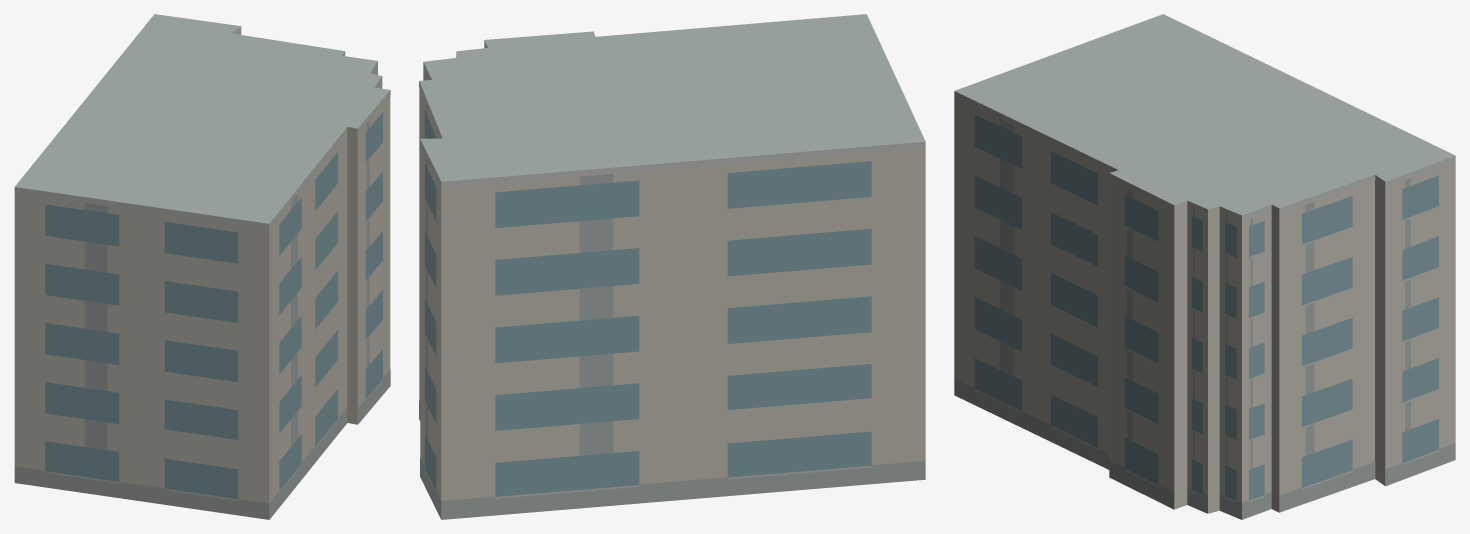
The model's file is survey-upis-33009211.glb.
3 renders of one model, left to right at view 1: azimuth 30°, elevation 25°; view 2: azimuth 150°, elevation 25°; view 3: azimuth 270°, elevation 25°, orthographic. The views are drawn at different scales.
Visible parts, largest first — view 1: survey-upis-33009211.tmp; view 2: survey-upis-33009211.tmp; view 3: survey-upis-33009211.tmp.
Boxes of the visible parts, x1=… form: survey-upis-33009211.tmp: x1=14, y1=14, x2=390, y2=519; survey-upis-33009211.tmp: x1=419, y1=14, x2=925, y2=519; survey-upis-33009211.tmp: x1=954, y1=14, x2=1455, y2=519.
Size of the model in its own units: 18.46 by 13 by 19.41.
